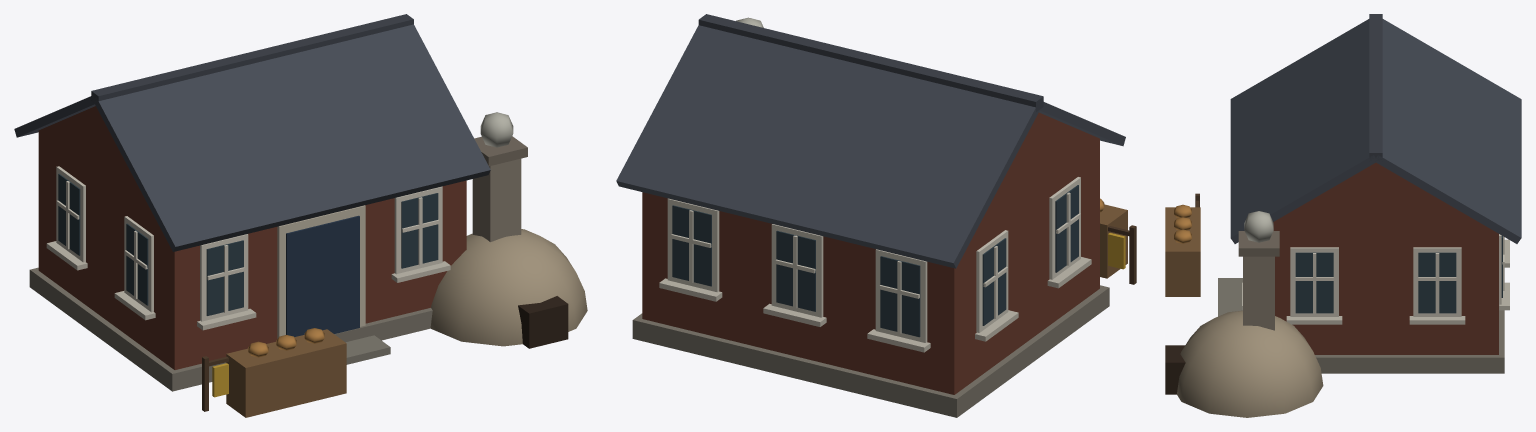
File: procedural_bakery@5.glb
3 views of the same model, side by side, from view 1: azimuth 30°, elevation 25°; view 2: azimuth 150°, elevation 25°; view 3: azimuth 270°, elevation 25° (orthographic). The views are drawn at different scales.
Visible parts, largest first — view 1: part_0, part_4; view 2: part_0; view 3: part_0, part_4.
Boxes of the visible parts, left/top/right/bottom form: part_0: left=14, top=14, right=587, bottom=417; part_4: left=480, top=112, right=513, bottom=147; part_0: left=616, top=14, right=1136, bottom=417; part_0: left=1165, top=14, right=1521, bottom=417; part_4: left=1244, top=211, right=1273, bottom=242.
Bounding box in the file's own units: 7.31 × 4.21 × 6.09.
